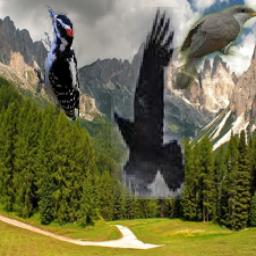Crow: (112, 7, 186, 199)
Cuckoo: (174, 6, 256, 90)
Woodpecker: (34, 5, 79, 120)
